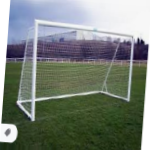goals: (17, 17, 135, 120)
